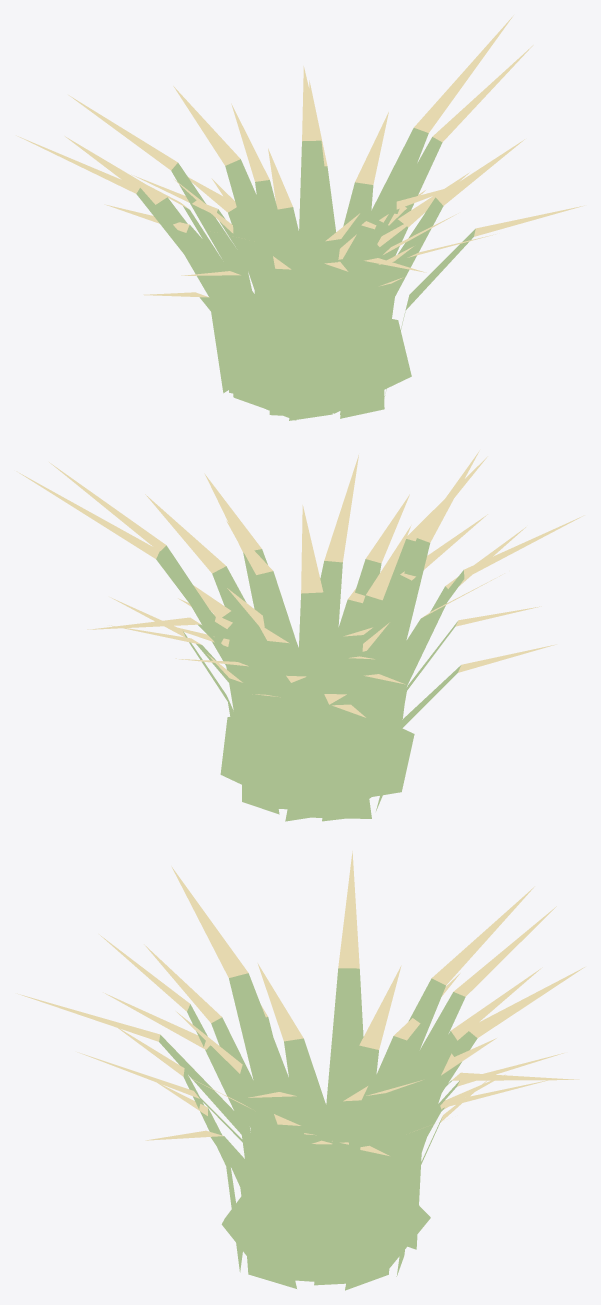
File: Blender_Fescue_1.glb
3 views of the same model, one above another, from view 1: azimuth 30°, elevation 25°; view 2: azimuth 150°, elevation 25°; view 3: azimuth 270°, elevation 25° (orthographic). The views are drawn at different scales.
Visible parts, largest first — view 1: Blender_Fescue_1; view 2: Blender_Fescue_1; view 3: Blender_Fescue_1.
Boxes of the visible parts, <box> form: Blender_Fescue_1: <box>16,15,584,420</box>; Blender_Fescue_1: <box>16,450,584,821</box>; Blender_Fescue_1: <box>17,851,584,1290</box>.
Size of the model in its own units: 0.9254 by 0.5502 by 0.9216.
